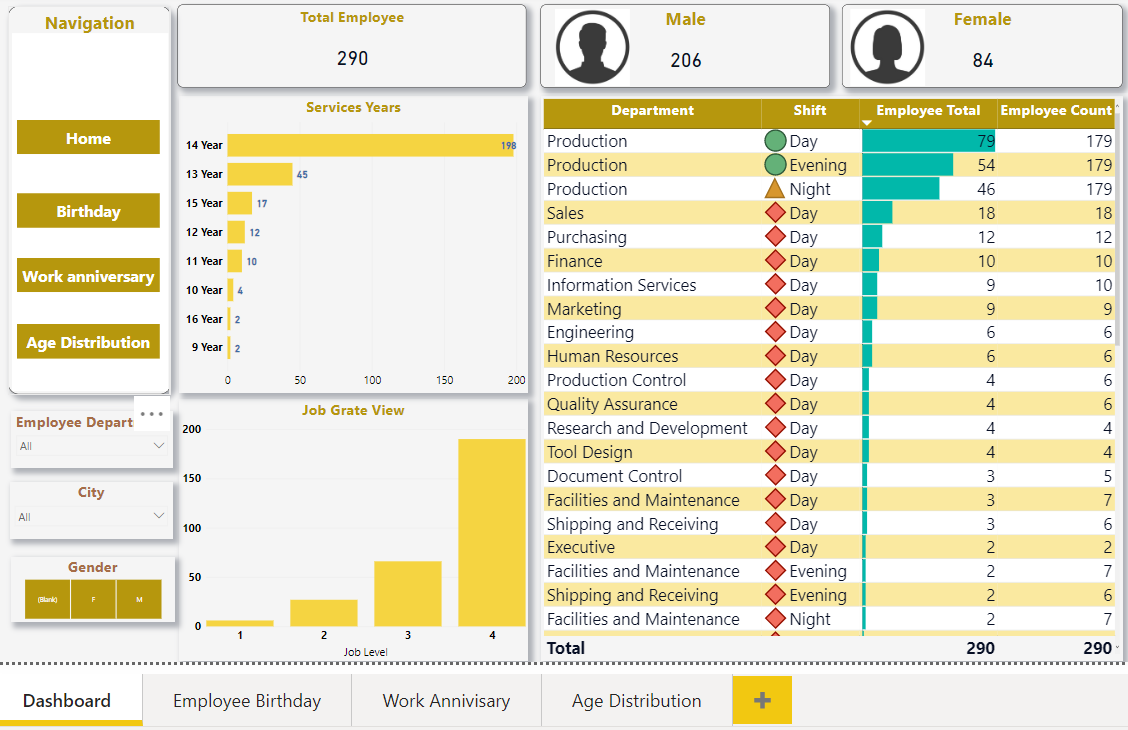

This screenshot's page, from the dashboard's own definition file:
{"tool":"powerbi","page":{"name":"Dashboard","canvas":[2100,1230],"ordinal":0},"visuals":[{"type":"shape","title":"Navigation","box":[21.6,22.1,300,715],"z":0,"group":"g1"},{"type":"card","title":"Total Employee","fields":{"Values":["Measure Table.Employee Count"]},"box":[335,20,642.5,152.5],"z":0},{"type":"card","title":"Male","fields":{"Values":["Measure Table.Male"]},"box":[1003.3,20,533.3,153.3],"z":1000},{"type":"actionButton","title":"Home","box":[39.2,487.3,262.9,62.9],"z":1000,"group":"g1"},{"type":"card","title":"Female","fields":{"Values":["Measure Table.Female"]},"box":[1560,20,516.7,153.3],"z":2000},{"type":"actionButton","title":"Home","box":[38.7,608.1,262.6,63.6],"z":2000,"group":"g1"},{"type":"barChart","title":"Services Years","fields":{"Category":["HumanResources Employee.Anniversary"],"Y":["Measure Table.Employee Count"]},"box":[336.7,186.7,643.3,546.7],"z":3000},{"type":"actionButton","title":"Home","box":[37.7,367.3,262.9,62.9],"z":3000,"group":"g1"},{"type":"actionButton","title":"Home","box":[37.7,231.6,262.9,62.9],"z":4000,"group":"g1"},{"type":"columnChart","title":"Job Grate View","fields":{"Category":["HumanResources Employee.OrganizationLevel"],"Y":["Measure Table.Employee Count"]},"box":[336.7,746.7,643.3,483.3],"z":4000},{"type":"tableEx","fields":{"Values":["HumanResources vEmployeeDepartment.Department","HumanResources vEmployeeDepartmentHistory.Shift","HumanResources vEmployeeDepartmentHistory.BusinessEntityID","Measure Table.Employee Count"]},"box":[1003.3,188,1072.4,1042],"z":5000},{"type":"image","box":[984,22.1,229.4,152],"z":6000},{"type":"image","box":[1536.8,22.1,212.8,152],"z":7000},{"type":"slicer","title":"Employee Department","fields":{"Values":["HumanResources vEmployeeDepartmentHistory.Department"]},"box":[27.6,769.3,298.5,105],"z":8000},{"type":"slicer","title":"City","fields":{"Values":["HumanResources vEmployee.City"]},"box":[24.9,899.2,301.3,105],"z":9000},{"type":"slicer","title":"Gender ","fields":{"Values":["HumanResources Employee.Gender"]},"box":[27.6,1036.5,301.3,121.6],"z":11000},{"type":"group","id":"g1","title":"Group 1","box":[21.6,22.1,300,715],"z":13001}]}

Visuals, with their boxes on the page's 2100x1230 design canvas (x1, y1, x2, y2). These are canvas units, not pixel positions in the 1128x730 screenshot, which may show the page scaled, cropped or inside an application window:
"Navigation" shape: [left=22, top=22, right=322, bottom=737]
"Total Employee" card: [left=335, top=20, right=978, bottom=172]
"Male" card: [left=1003, top=20, right=1537, bottom=173]
"Home" actionButton: [left=39, top=487, right=302, bottom=550]
"Female" card: [left=1560, top=20, right=2077, bottom=173]
"Home" actionButton: [left=39, top=608, right=301, bottom=672]
"Services Years" barChart: [left=337, top=187, right=980, bottom=733]
"Home" actionButton: [left=38, top=367, right=301, bottom=430]
"Home" actionButton: [left=38, top=232, right=301, bottom=294]
"Job Grate View" columnChart: [left=337, top=747, right=980, bottom=1230]
tableEx - HumanResources vEmployeeDepartment.Department x HumanResources vEmployeeDepartmentHistory.Shift: [left=1003, top=188, right=2076, bottom=1230]
image: [left=984, top=22, right=1213, bottom=174]
image: [left=1537, top=22, right=1750, bottom=174]
"Employee Department" slicer: [left=28, top=769, right=326, bottom=874]
"City" slicer: [left=25, top=899, right=326, bottom=1004]
"Gender " slicer: [left=28, top=1036, right=329, bottom=1158]
"Group 1" group: [left=22, top=22, right=322, bottom=737]
